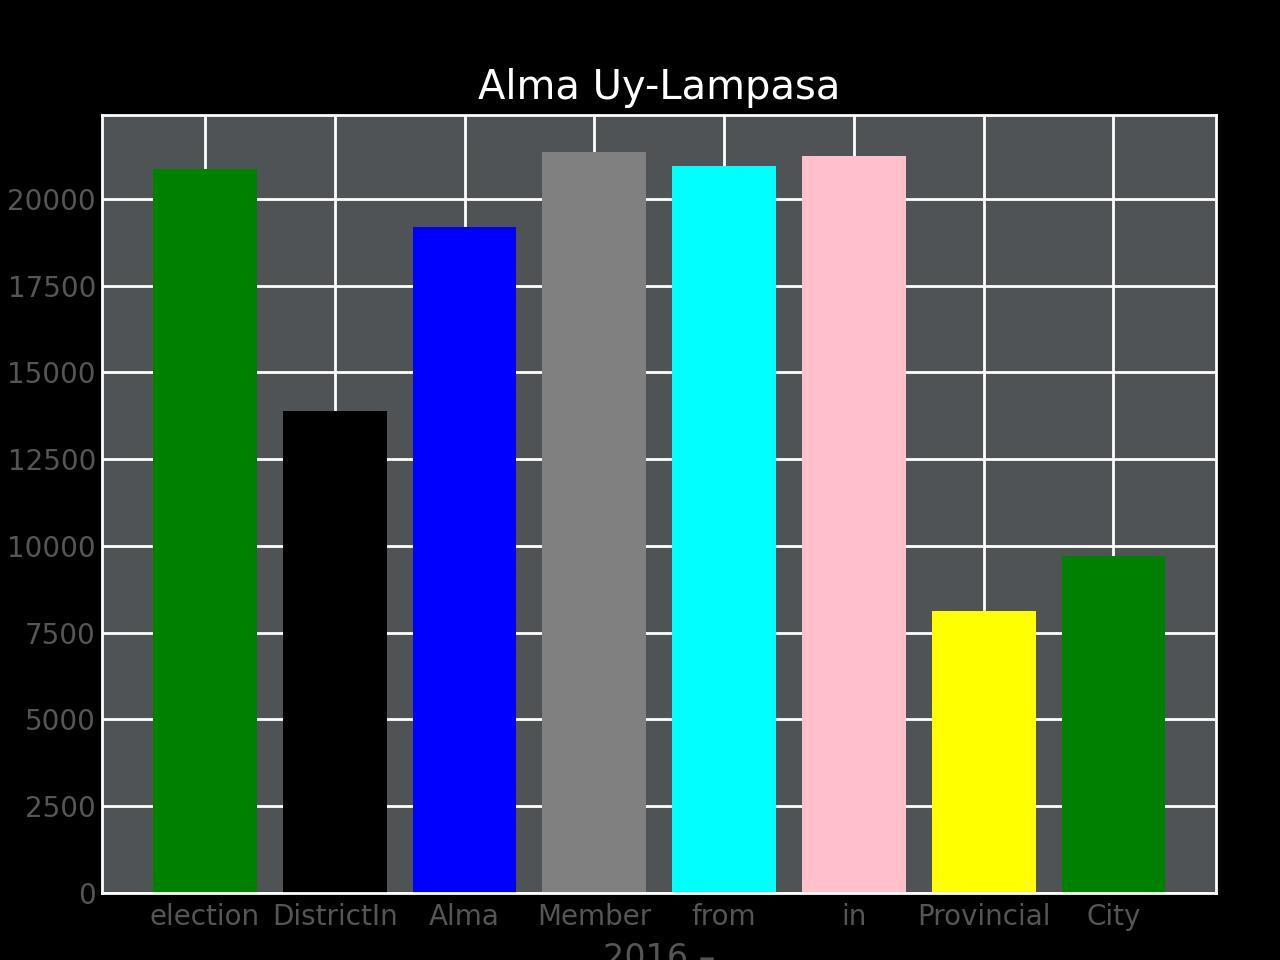axis: (0, 188, 96, 910)
rectangle: (542, 152, 646, 893), (802, 156, 906, 893), (672, 166, 776, 893), (153, 168, 257, 892), (412, 227, 516, 893), (282, 411, 386, 893), (1061, 557, 1165, 892), (931, 611, 1035, 893)
